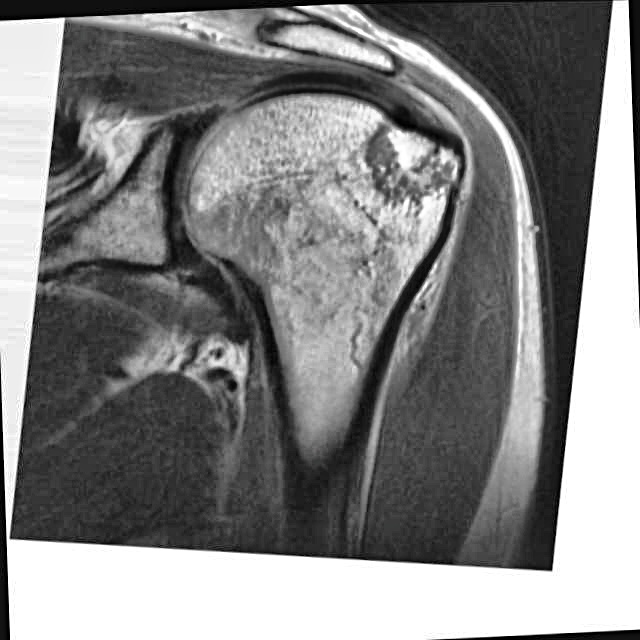Comminuted: (345, 107, 475, 215)
